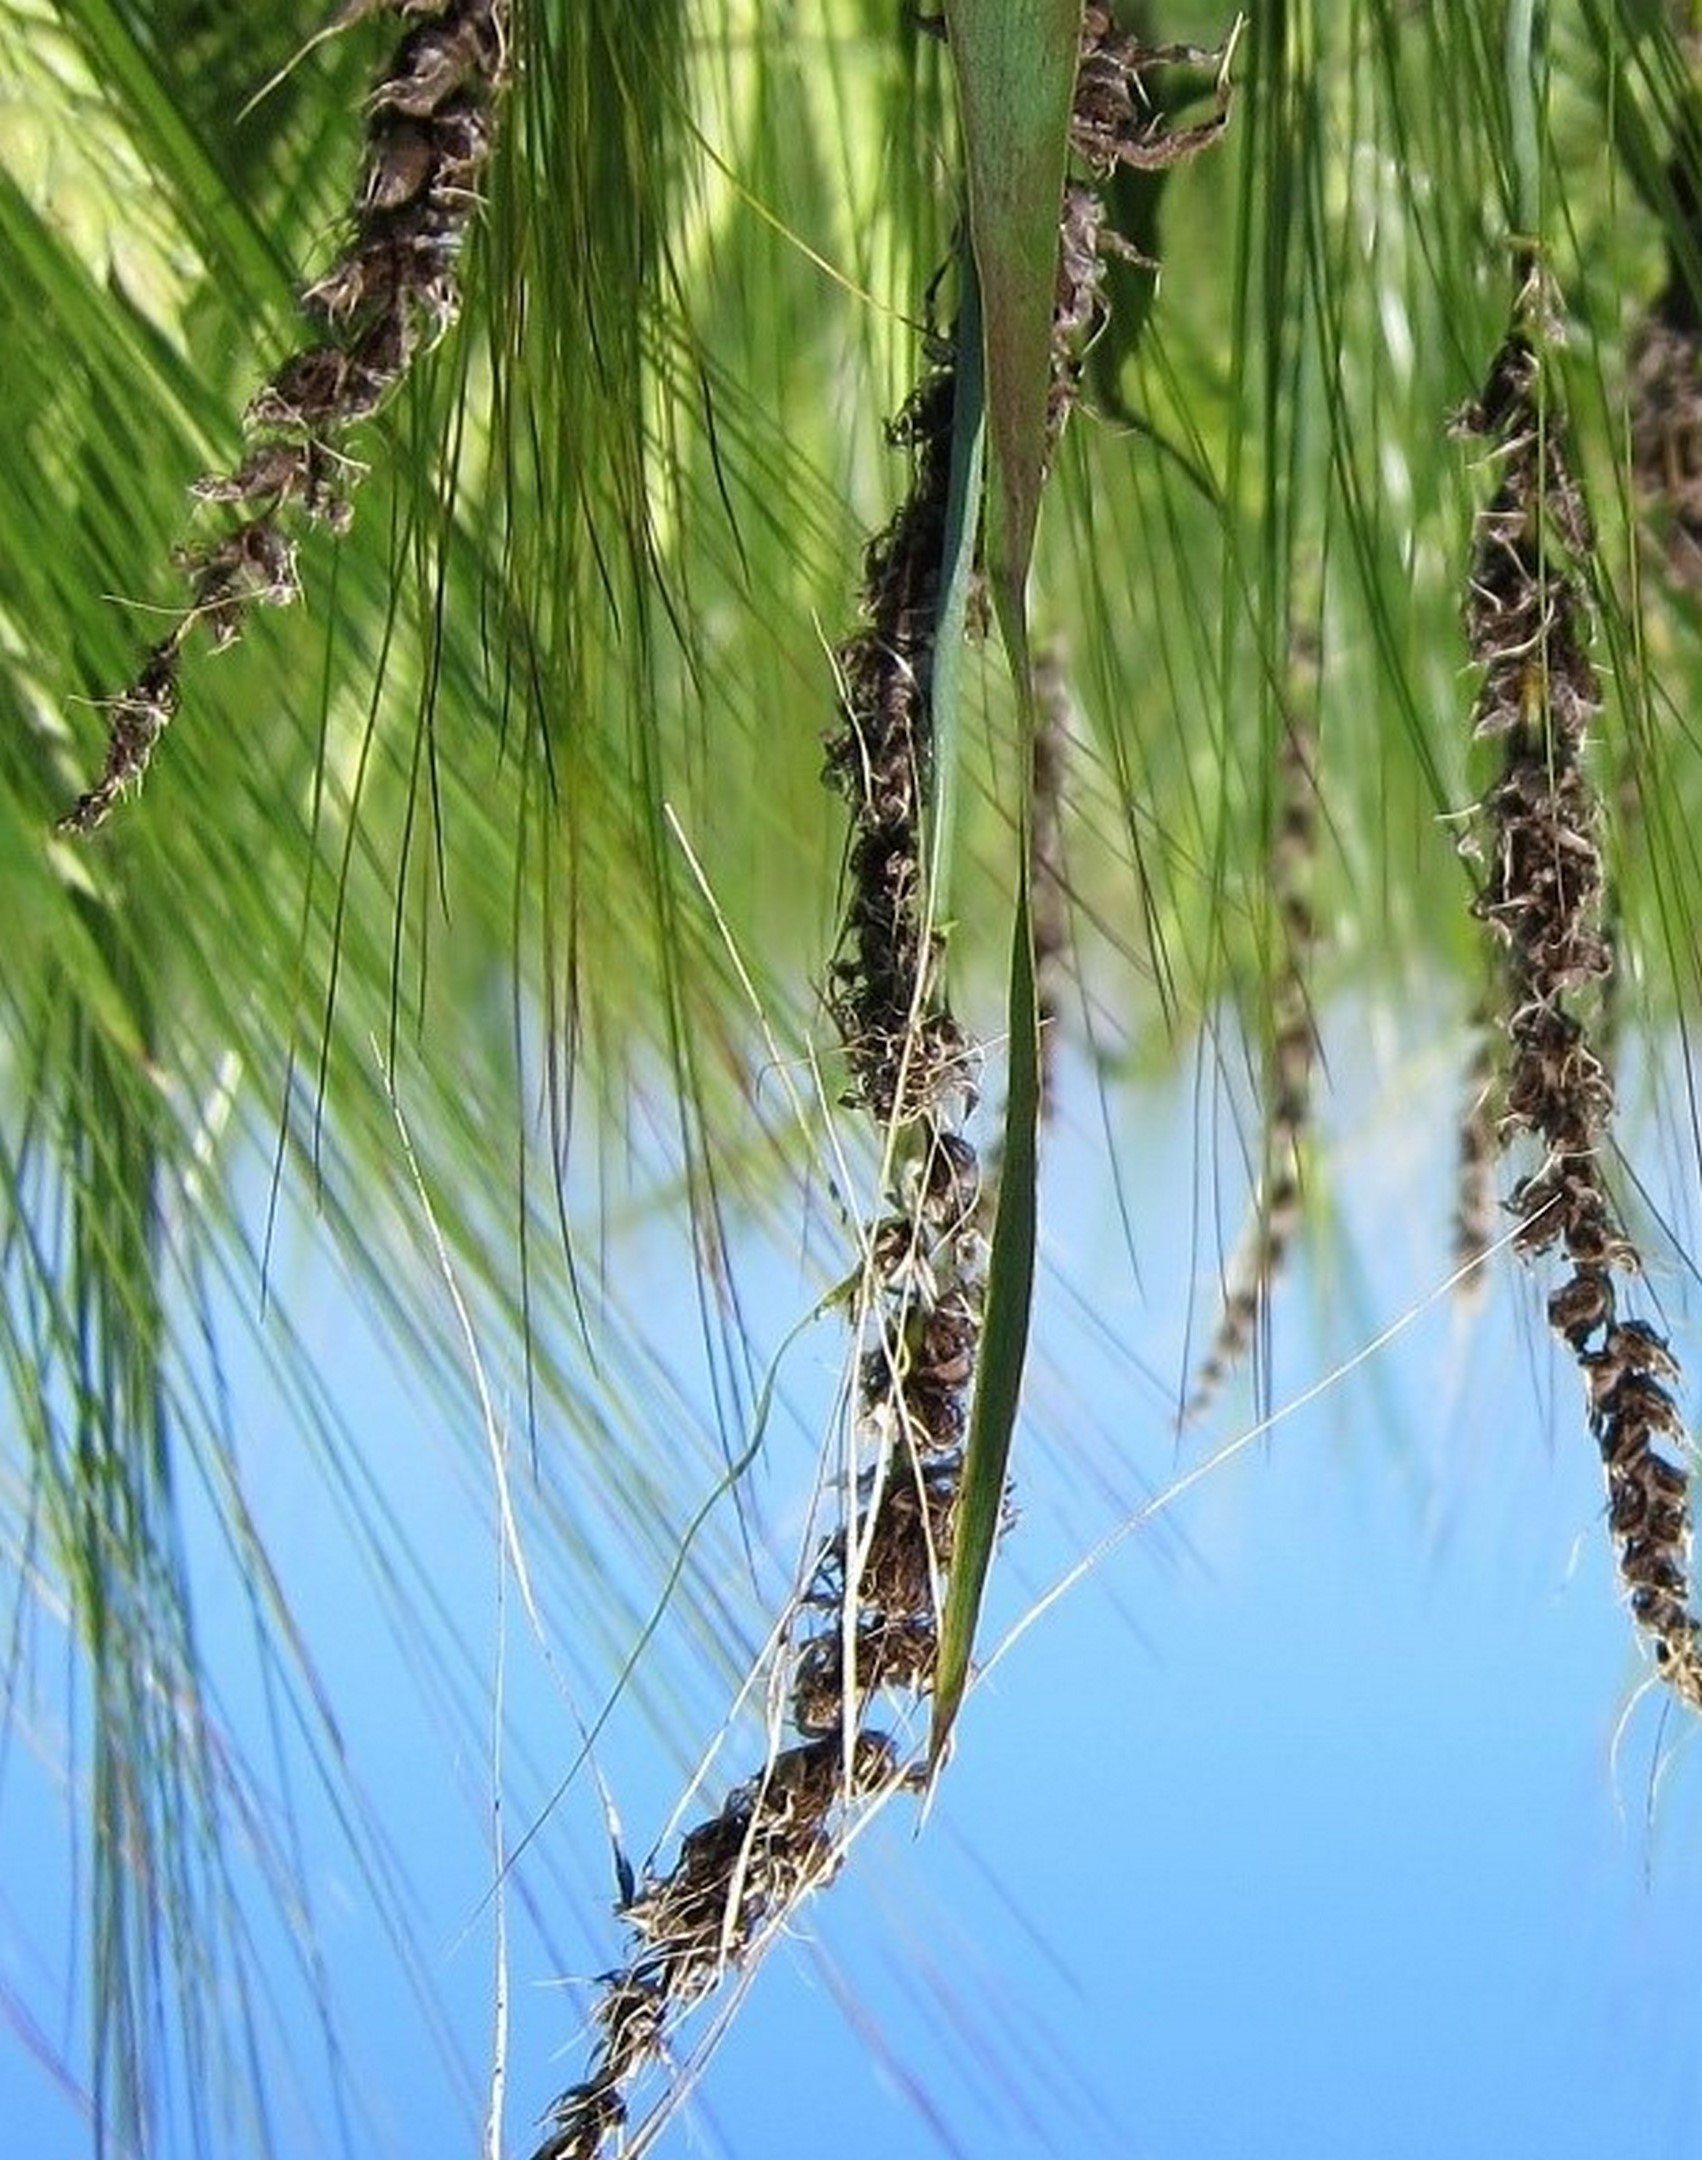Wheat Loose Smut: (606, 430, 1089, 2079), (1416, 289, 1702, 1650), (67, 12, 538, 808)
